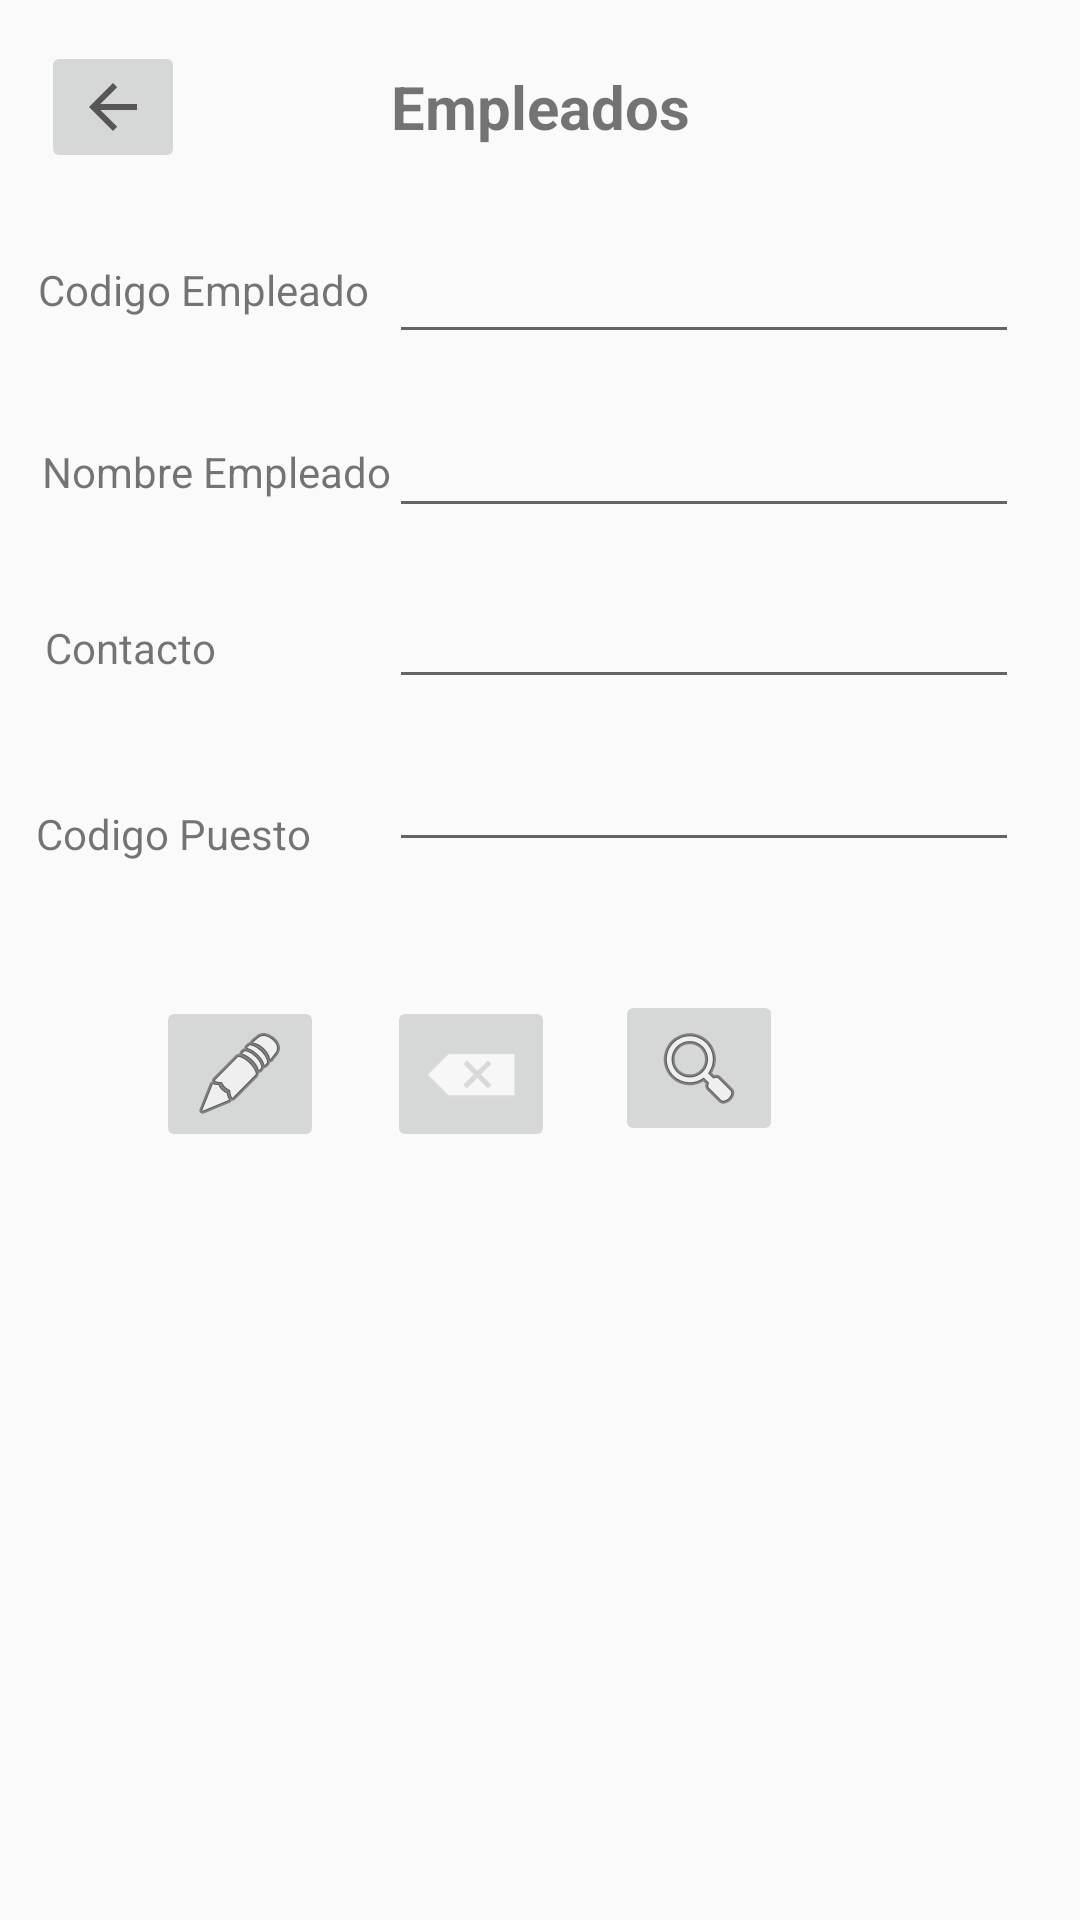

Screen size 1080px x 1920px. Icon name, then its center in pixels as (x=x, y=y):
delete: (x=471, y=1074)
edit: (x=240, y=1074)
search: (x=699, y=1068)
